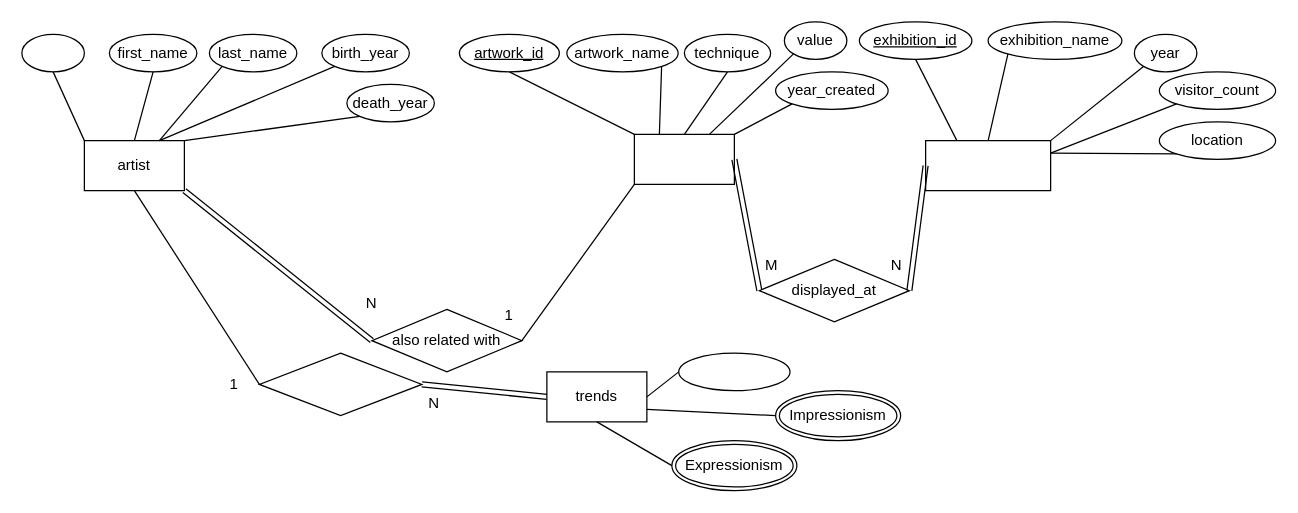
Some shapes in this 1298 by 513 pixel diagram are drawn without their labels. The centre of each missing label's shape, as x and y in pixels:
"artist_id" goes at [52,52].
"artwork" goes at [683,158].
"associate" goes at [340,384].
"exhibition" goes at [987,165].
"id" goes at [734,371].
